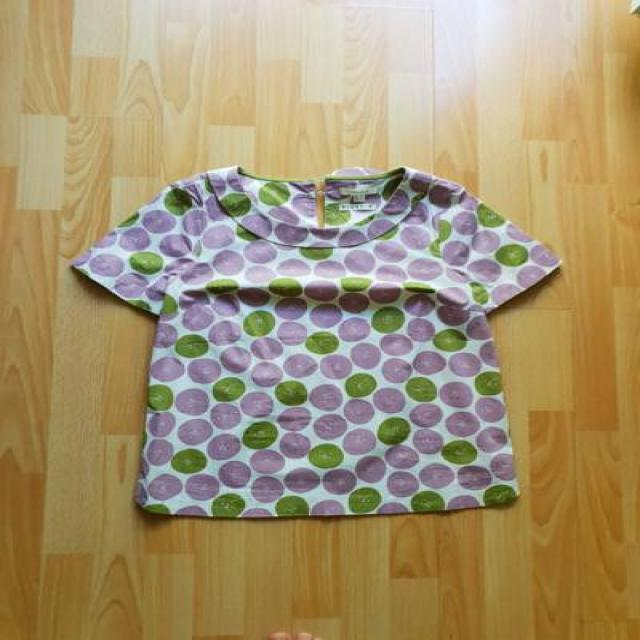Clothes -Biodegradable-: (78, 165, 562, 513)
